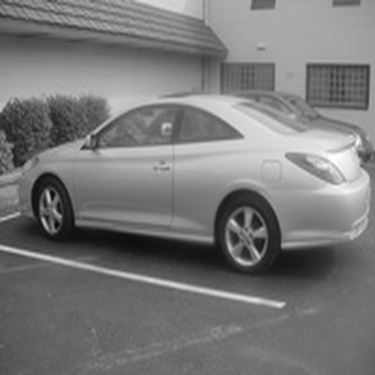car: (13, 92, 371, 279), (154, 85, 373, 170)
